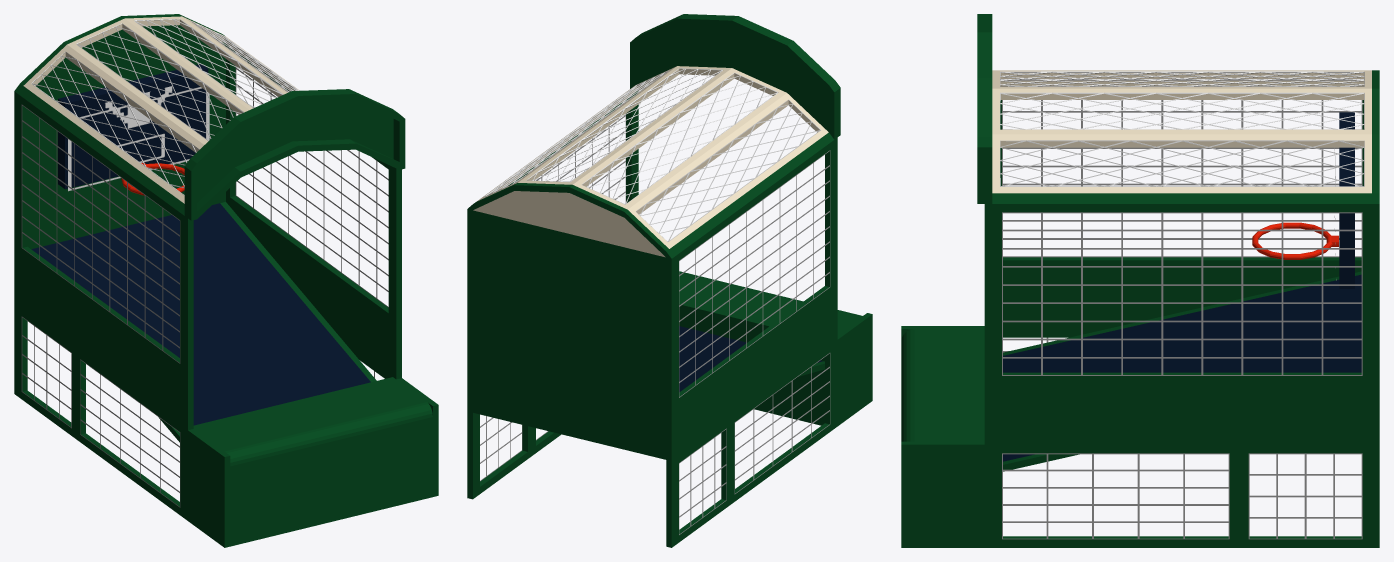
The model's file is basketball arcade machine1.fbx.
3 renders of one model, left to right at view 1: azimuth 30°, elevation 25°; view 2: azimuth 150°, elevation 25°; view 3: azimuth 270°, elevation 25°, orthographic. The views are drawn at different scales.
Parts seen in each view (by area): view 1: ArcadeMachine, Grids, Hoop, GridTop, hoopw; view 2: ArcadeMachine, GridTop, Grids; view 3: ArcadeMachine, Grids, GridTop, Hoop, rim.
Boxes of the visible parts, x1,y1,x2,y2 form: ArcadeMachine: [14, 14, 438, 547]; Grids: [21, 67, 388, 507]; Hoop: [58, 64, 208, 189]; GridTop: [31, 18, 298, 195]; hoopw: [68, 86, 209, 191]; ArcadeMachine: [467, 14, 872, 547]; GridTop: [484, 68, 820, 241]; Grids: [480, 115, 830, 534]; ArcadeMachine: [901, 14, 1379, 547]; Grids: [1002, 100, 1362, 539]; GridTop: [1000, 71, 1364, 186]; Hoop: [1339, 112, 1354, 288]; rim: [1252, 222, 1338, 259].
Size of the model in its own units: 2.86 by 5.12 by 4.86.
7 materials, 1 textured.
